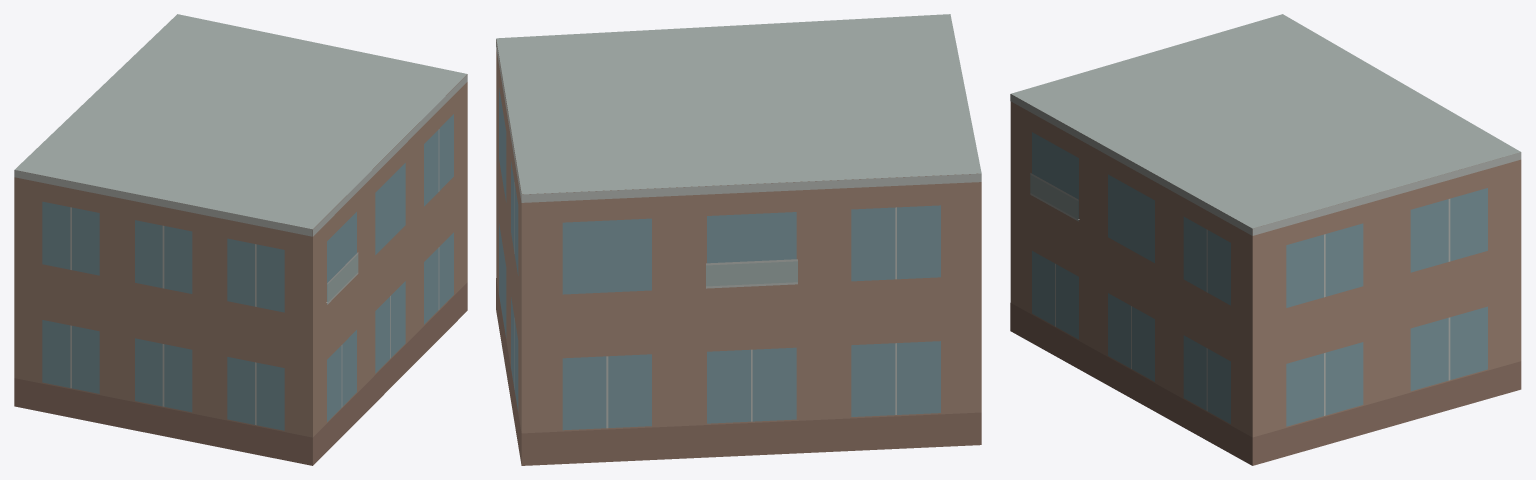
Rendered from survey-upis-32641898.glb.
3 views of the same model, side by side, from view 1: azimuth 30°, elevation 25°; view 2: azimuth 150°, elevation 25°; view 3: azimuth 270°, elevation 25° (orthographic). The views are drawn at different scales.
Parts seen in each view (by area): view 1: survey-upis-32641898.tmp; view 2: survey-upis-32641898.tmp; view 3: survey-upis-32641898.tmp.
Part boxes in pixels (x1,y1,x2,y2): survey-upis-32641898.tmp: (14,14,467,465); survey-upis-32641898.tmp: (496,14,981,465); survey-upis-32641898.tmp: (1010,14,1521,465).
Bounding box in the file's own units: 15.13 × 7.8 × 15.22.
